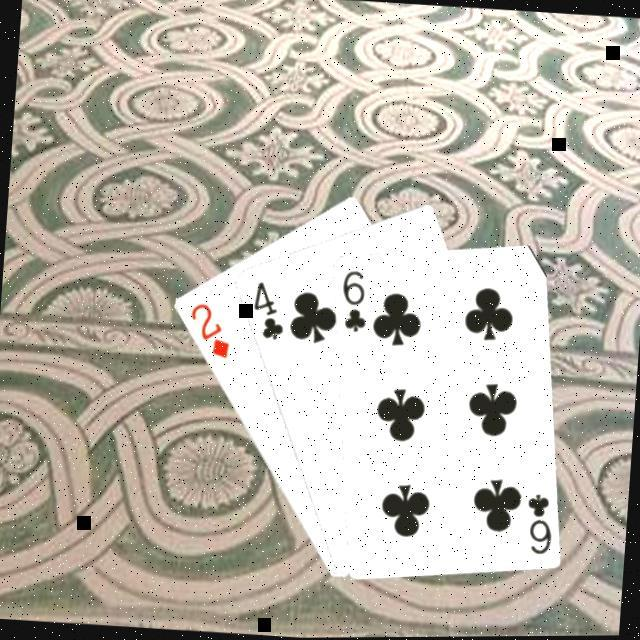2D: (182, 299, 234, 362)
4C: (246, 278, 288, 344)
6C: (334, 267, 371, 336), (519, 490, 556, 558)
